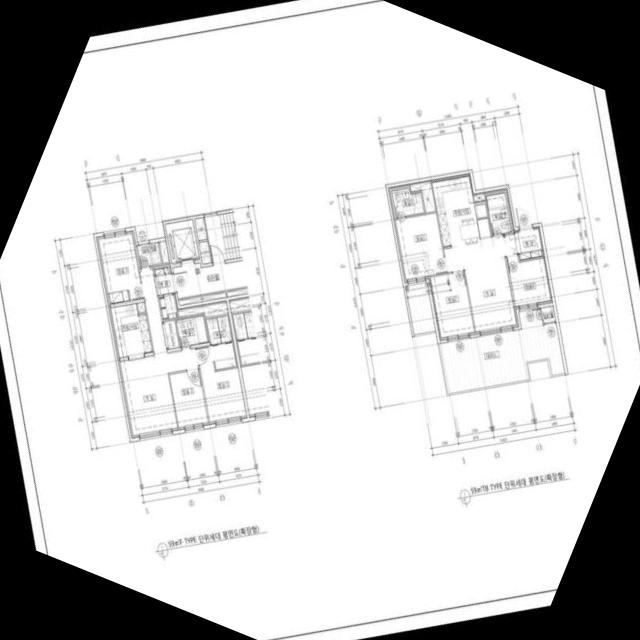background: (0, 0, 640, 640)
space_bedroom: (196, 344, 246, 423), (394, 212, 446, 281), (96, 230, 143, 303), (428, 270, 474, 339), (506, 255, 552, 308), (169, 368, 208, 428)
space_elevator: (165, 218, 199, 263)
space_elevator_hall: (172, 260, 247, 297)
space_front: (153, 263, 174, 294)
space_kitchen: (431, 173, 491, 247), (108, 302, 152, 357), (513, 226, 544, 259)
space_living_room: (118, 266, 198, 437), (443, 232, 518, 333)
space_other: (409, 180, 435, 212), (177, 300, 228, 316), (178, 291, 226, 304), (158, 294, 177, 319), (163, 319, 179, 348), (194, 217, 206, 239), (199, 240, 210, 263), (159, 240, 169, 262), (226, 287, 248, 296), (473, 192, 485, 201), (137, 301, 145, 311)
space_outdoor_room: (137, 241, 161, 266), (541, 305, 555, 322)
space_staircase: (204, 211, 241, 261)
space_toilet: (206, 315, 236, 368), (485, 191, 511, 234), (176, 315, 208, 346), (391, 187, 424, 217)
